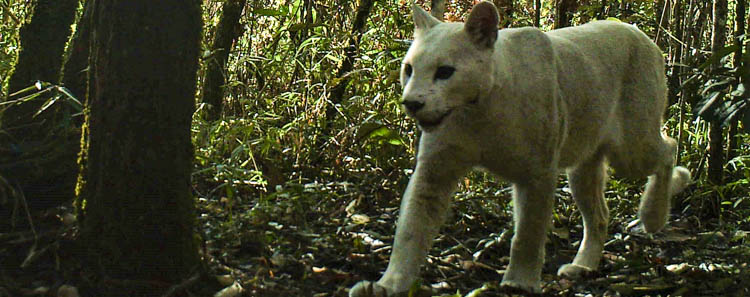OncaParda: (345, 1, 678, 297)
